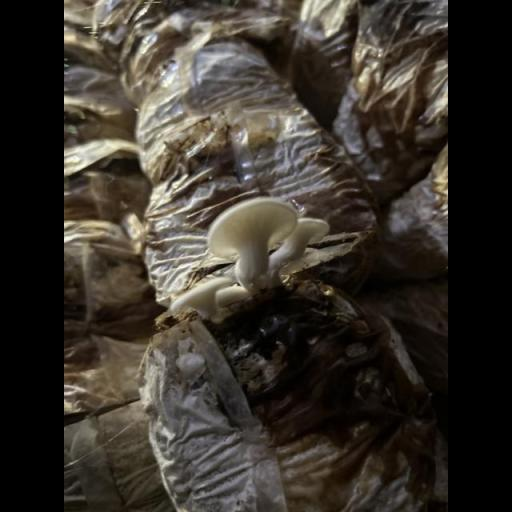White Oyster Mushroom: (171, 198, 331, 320)
